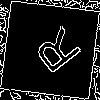R: (25, 25, 84, 83)
